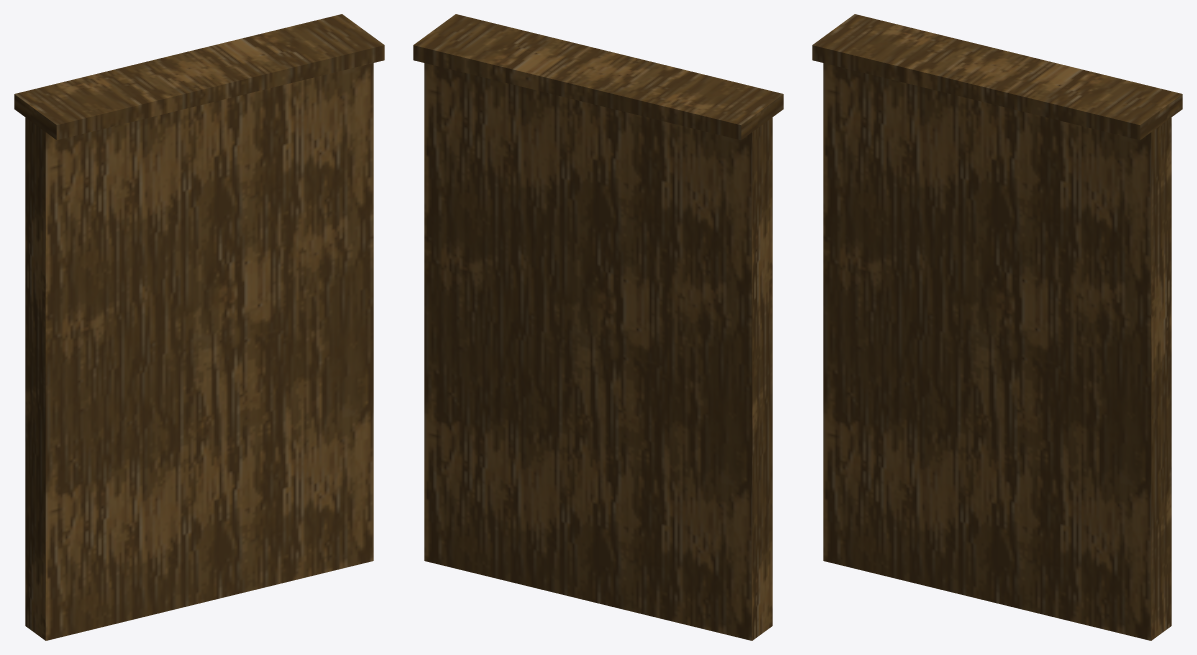
The model's file is SM_OutsideWall.fbx.
The picture shows the model from 3 angles, left to right: view 1: azimuth 30°, elevation 25°; view 2: azimuth 150°, elevation 25°; view 3: azimuth 330°, elevation 25°; orthographic projection.
Parts seen in each view (by area): view 1: SM_OutsideWall; view 2: SM_OutsideWall; view 3: SM_OutsideWall.
Part boxes in pixels (left/top/right/bottom): SM_OutsideWall: left=14, top=14, right=384, bottom=640; SM_OutsideWall: left=413, top=14, right=783, bottom=640; SM_OutsideWall: left=812, top=14, right=1182, bottom=640.
Size of the model in its own units: 460 by 702 by 104.
